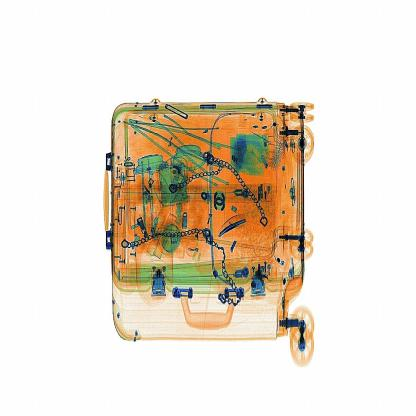pliers: (212, 205, 256, 248)
